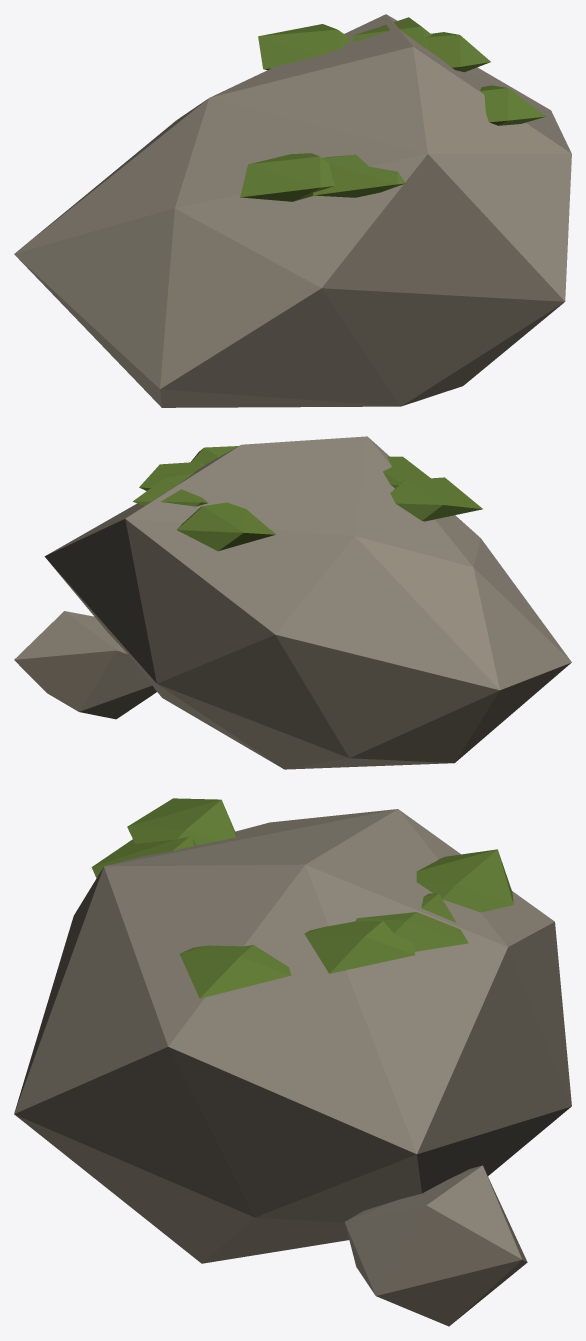
Rendered from rock.glb.
3 views of the same model, one above another, from view 1: azimuth 30°, elevation 25°; view 2: azimuth 150°, elevation 25°; view 3: azimuth 270°, elevation 25° (orthographic). The views are drawn at different scales.
Visible parts, largest first — view 1: base; view 2: base; view 3: base.
Part boxes in pixels (x1,y1,x2,y2): base: (14,14,571,407); base: (14,436,571,769); base: (14,798,571,1326).
Size of the model in its own units: 0.6376 by 0.3766 by 0.4602.
